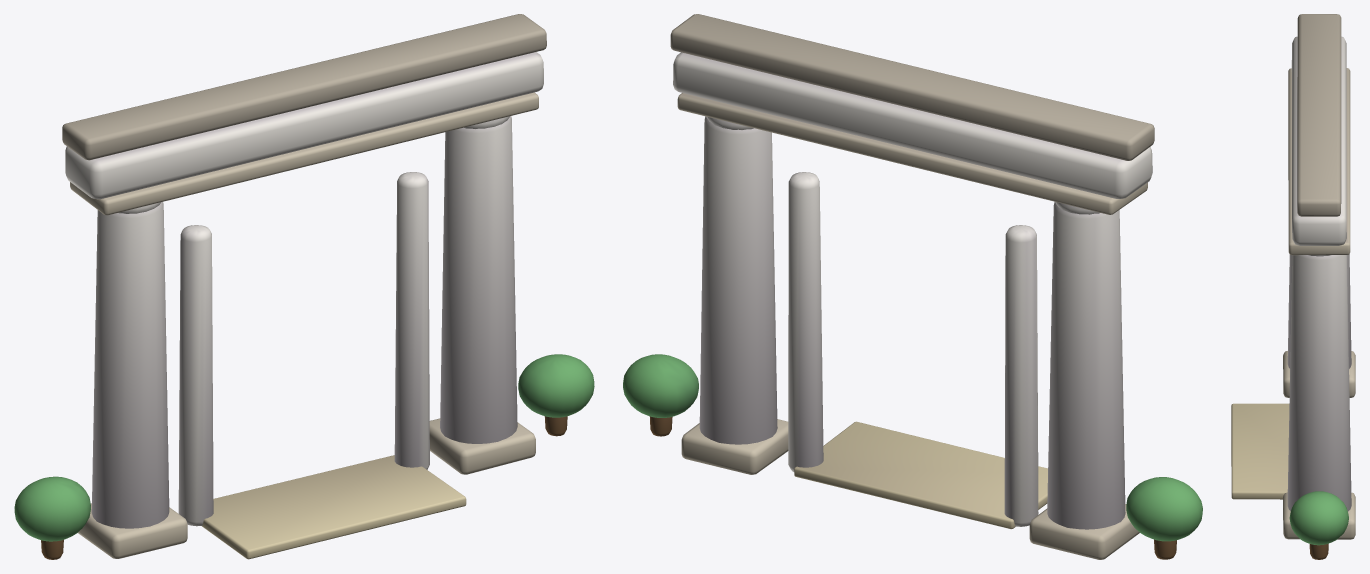
3 renders of one model, left to right at view 1: azimuth 30°, elevation 25°; view 2: azimuth 150°, elevation 25°; view 3: azimuth 270°, elevation 25°, orthographic. The views are drawn at different scales.
Visible parts, largest first — view 1: gate_dbd01ea1; view 2: gate_dbd01ea1; view 3: gate_dbd01ea1.
Boxes of the visible parts, x1,y1,x2,y2 form: gate_dbd01ea1: (14,14,594,559); gate_dbd01ea1: (623,14,1202,559); gate_dbd01ea1: (1231,14,1355,559).
Size of the model in its own units: 6.25 by 4.4 by 1.41.
